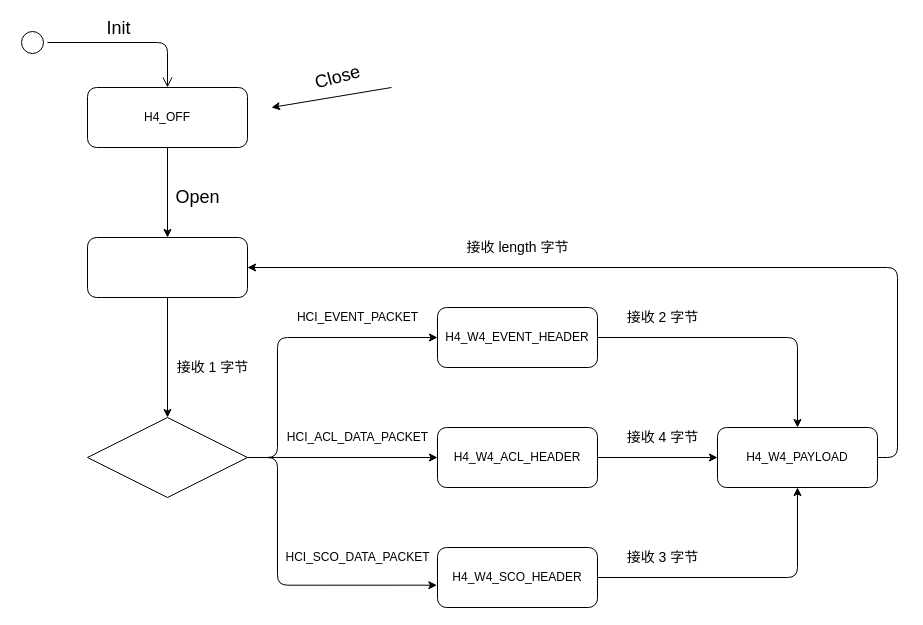
Some shapes in this 923 by 625 pixel diagram are drawn without their labels. The centre of each missing label's shape, as x and y in pixels:
"H4_W4_PACKET_TYPE" belongs at (x=167, y=267).
"判断数据包类型" belongs at (x=167, y=457).
